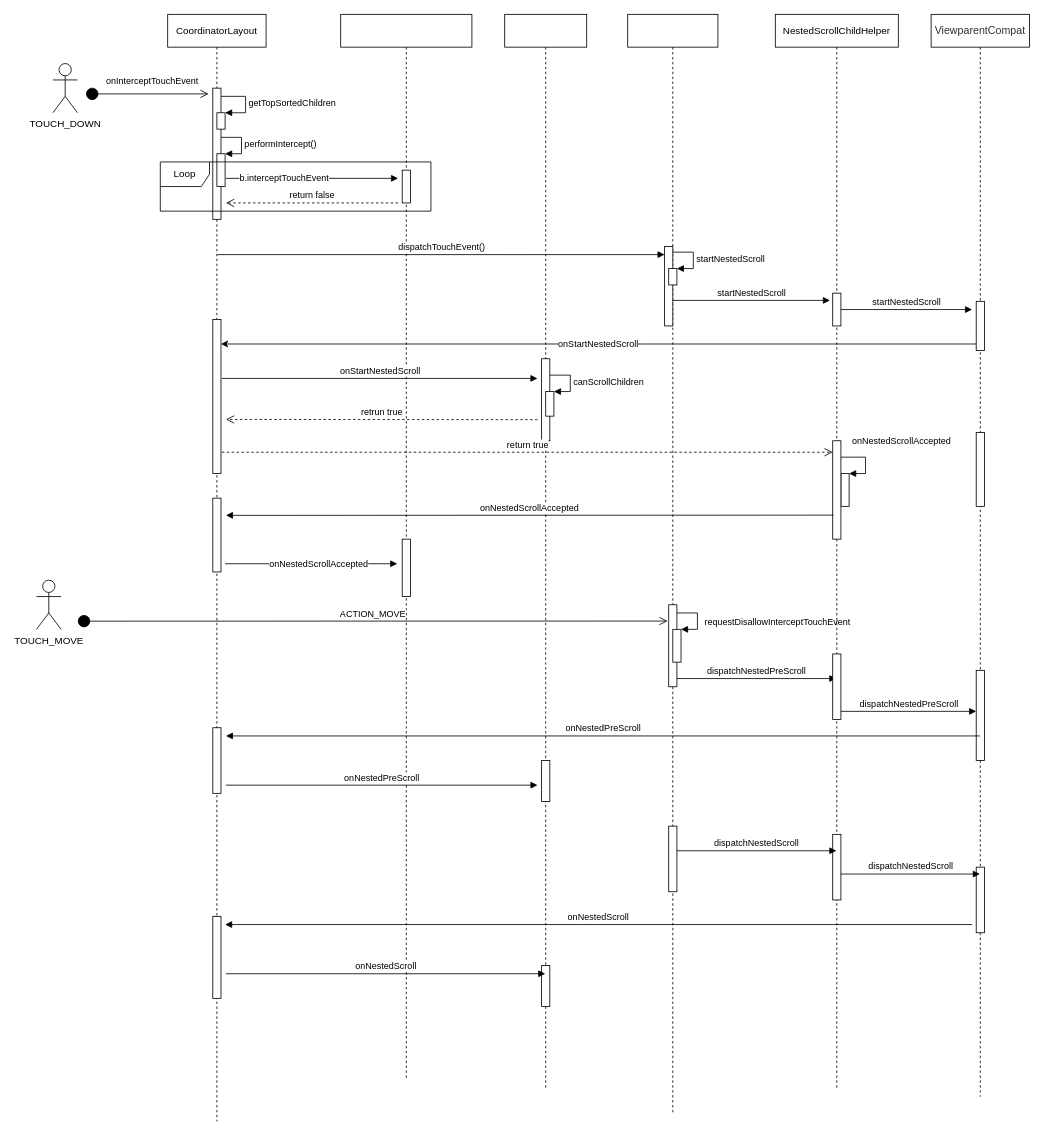
The diagram is 1044 pixels wide and 1136 high, and some of its shapes have lost their labels. Each missing label, with the box of its shape:
AppbarLayout: (504, 14, 587, 1089)
AppBarLayout $ScrollingViewBehavior: (340, 14, 472, 1080)
NestedScrollView: (627, 14, 718, 1113)
